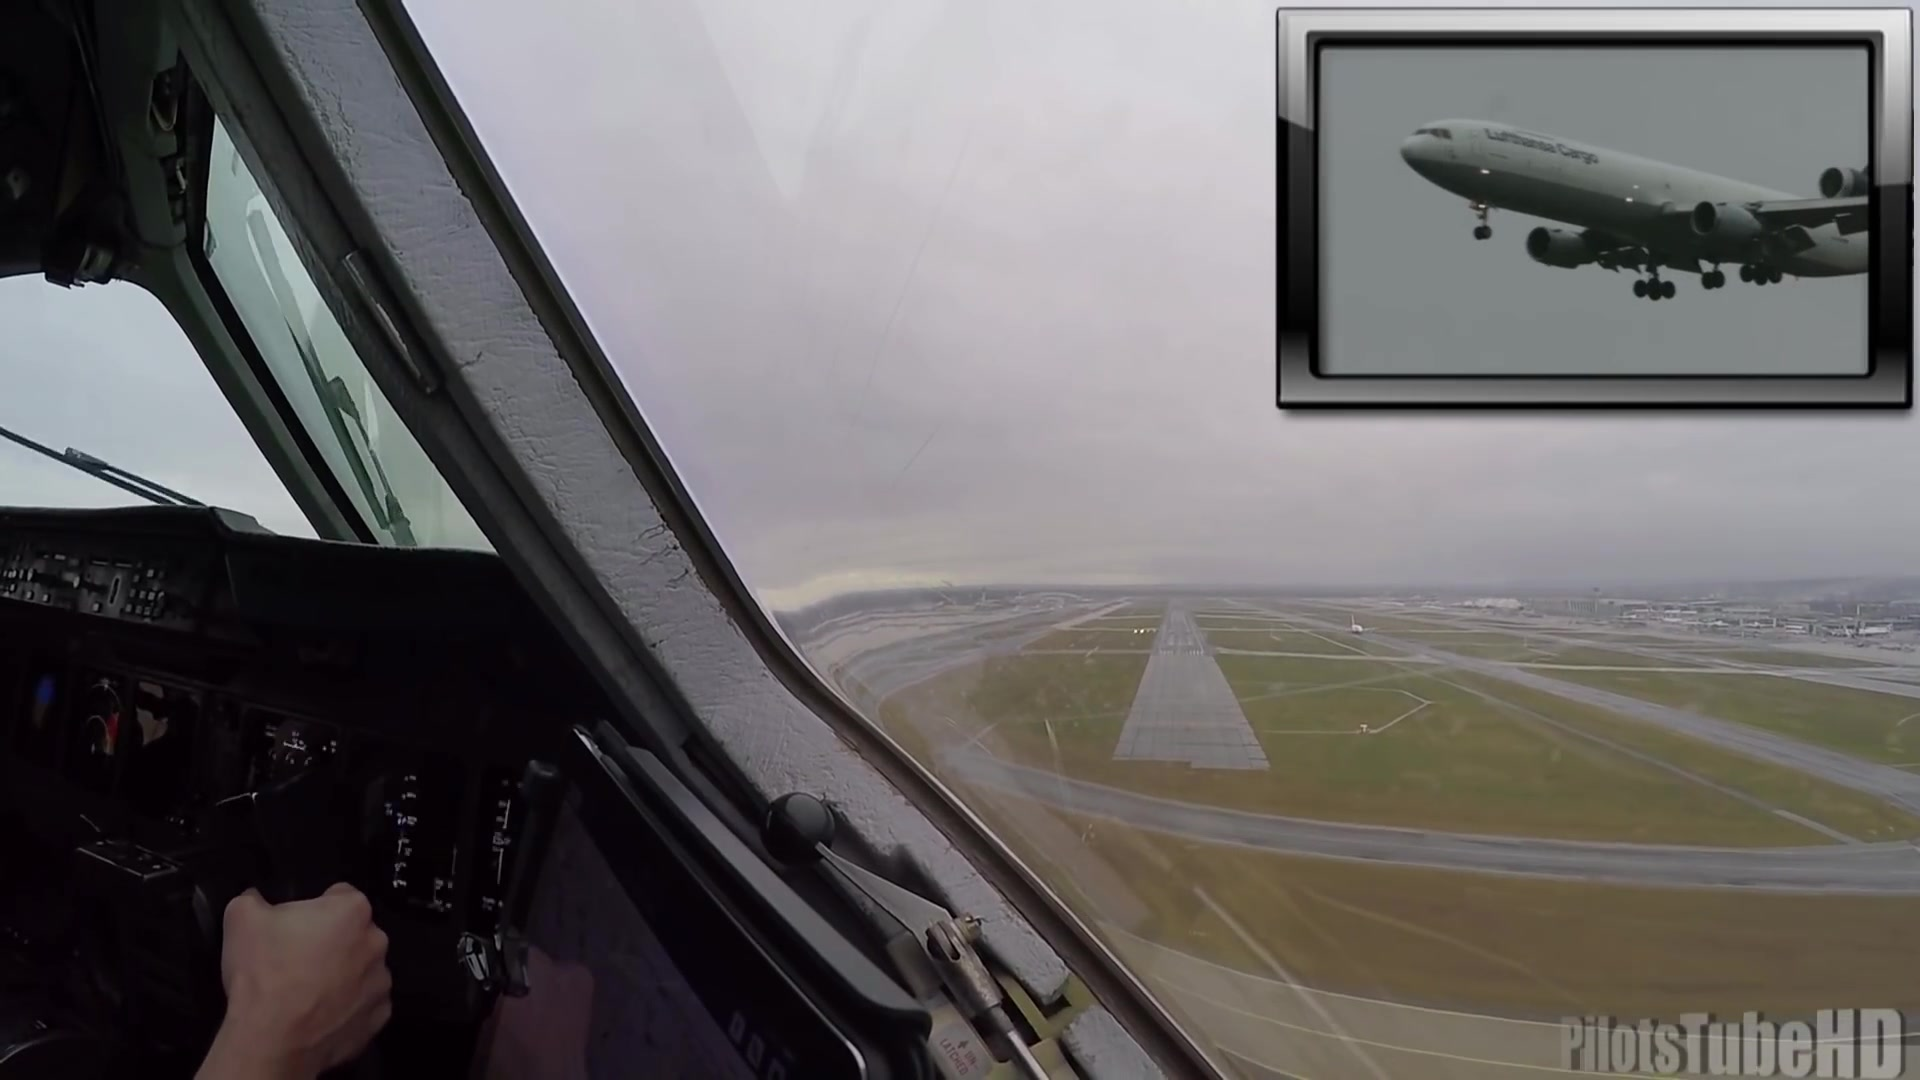entrance: (1155, 645, 1200, 658)
runway: (1112, 601, 1261, 764)
